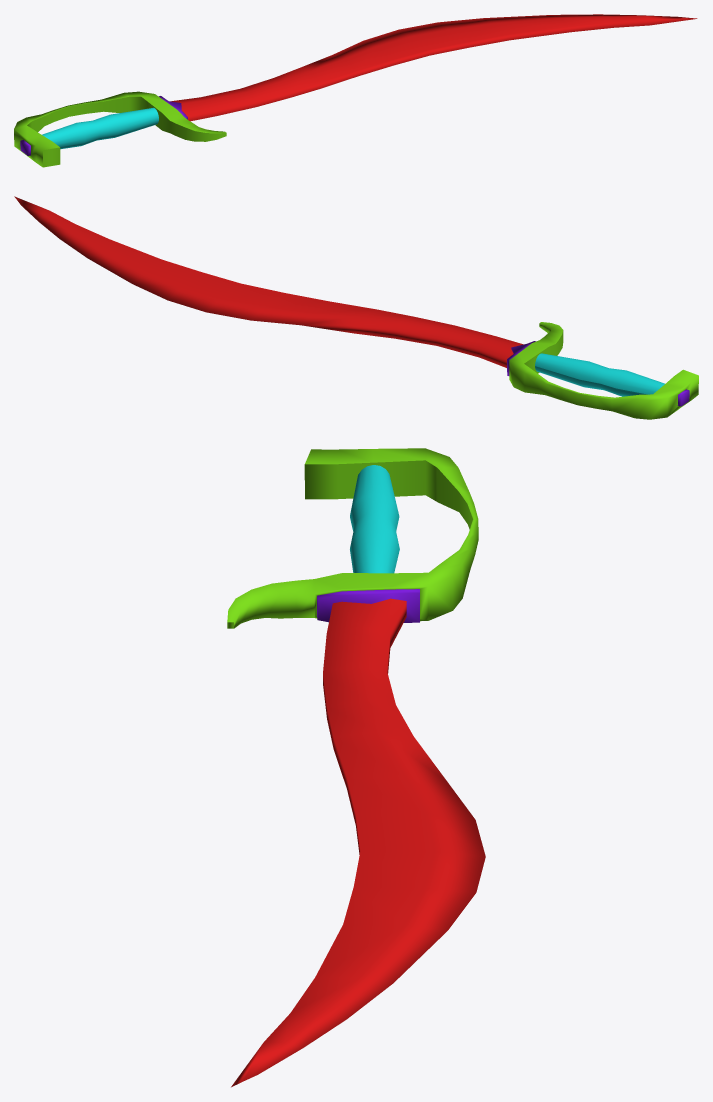
The picture shows the model from 3 angles, top to bottom: view 1: azimuth 30°, elevation 25°; view 2: azimuth 150°, elevation 25°; view 3: azimuth 270°, elevation 25°; orthographic projection. The views are drawn at different scales.
Visible parts, largest first — view 1: SM_CurvedSword; view 2: SM_CurvedSword; view 3: SM_CurvedSword.
Boxes of the visible parts, x1,y1,x2,y2 form: SM_CurvedSword: (14, 14, 697, 167); SM_CurvedSword: (14, 196, 698, 419); SM_CurvedSword: (227, 448, 485, 1087).
Bounding box in the file's own units: 2 × 0.0645 × 0.3504.
